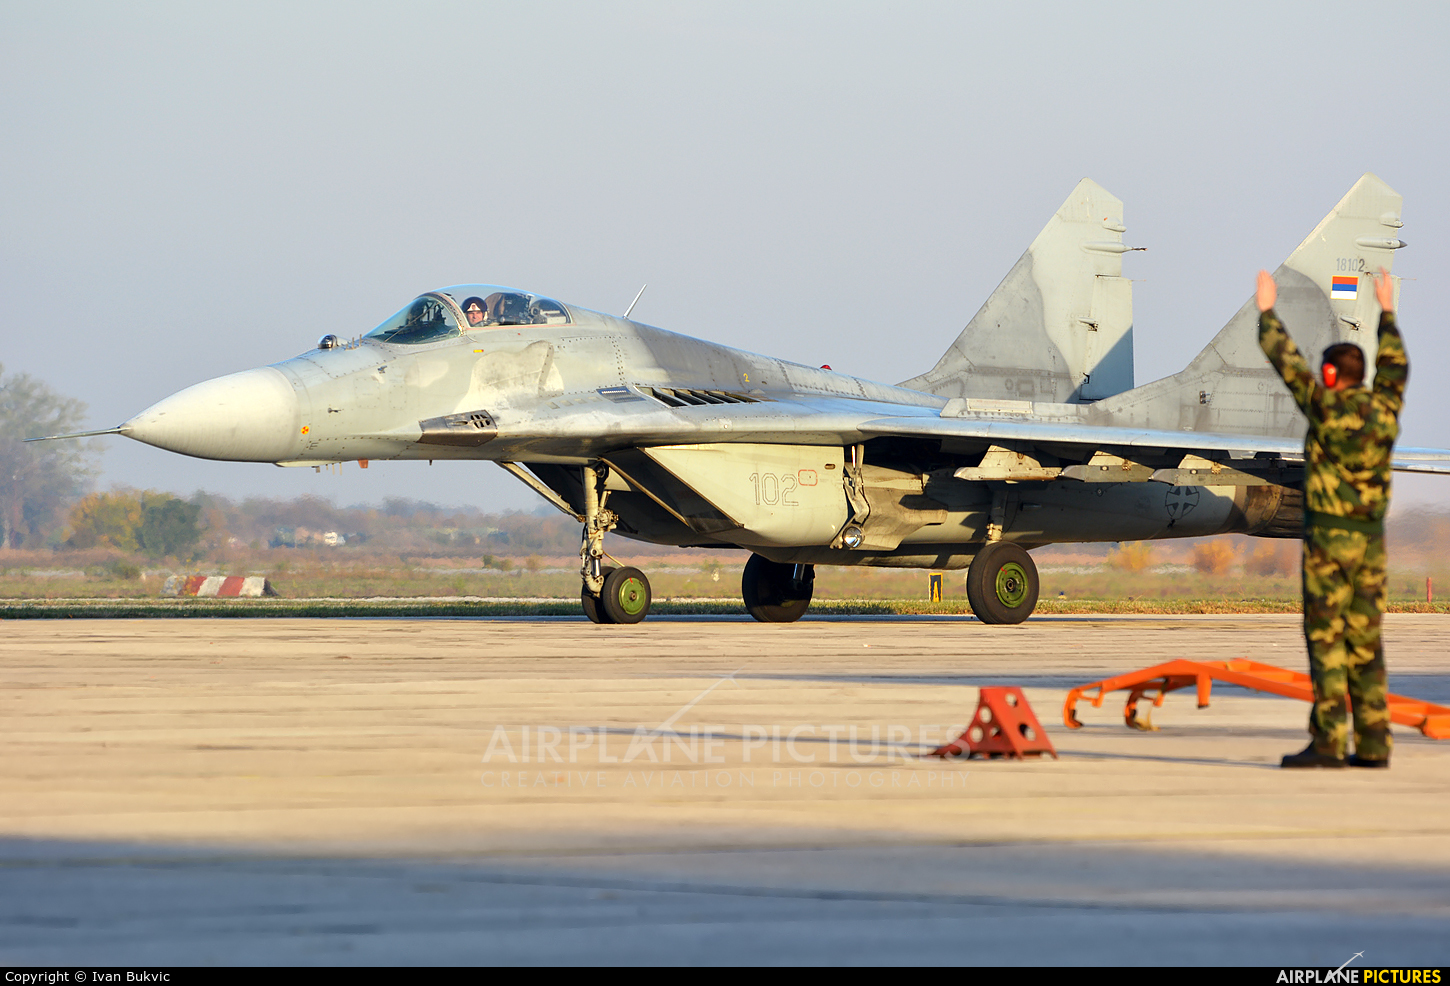Mig-29: (36, 135, 1426, 616)
